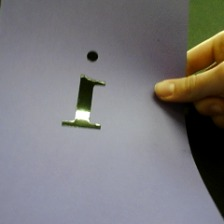violet1: (53, 46, 114, 131)
